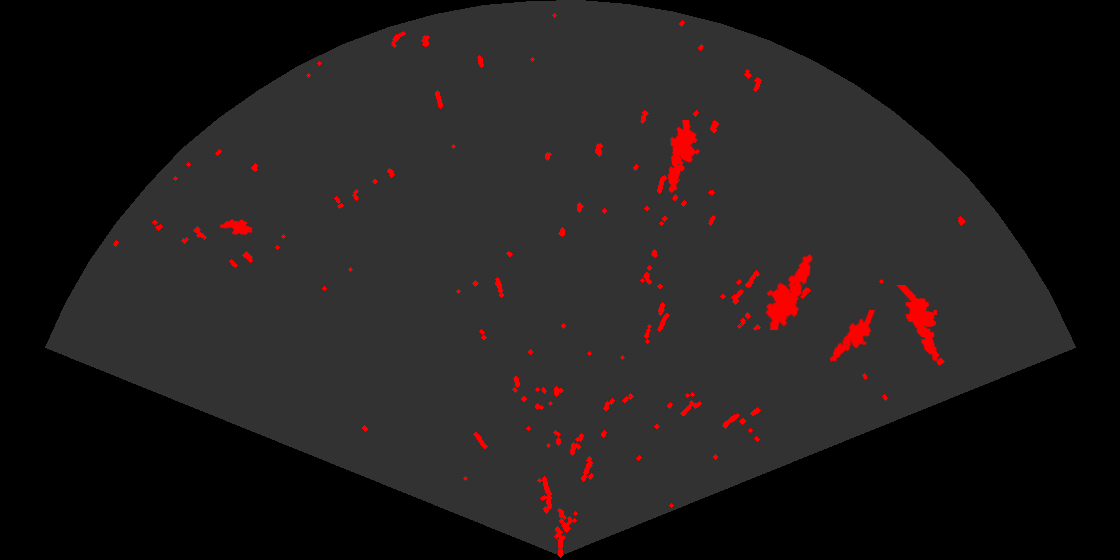AUV: (218, 218, 254, 236)
frogman: (764, 252, 814, 330), (895, 285, 941, 363), (826, 310, 877, 373), (666, 120, 702, 194)
